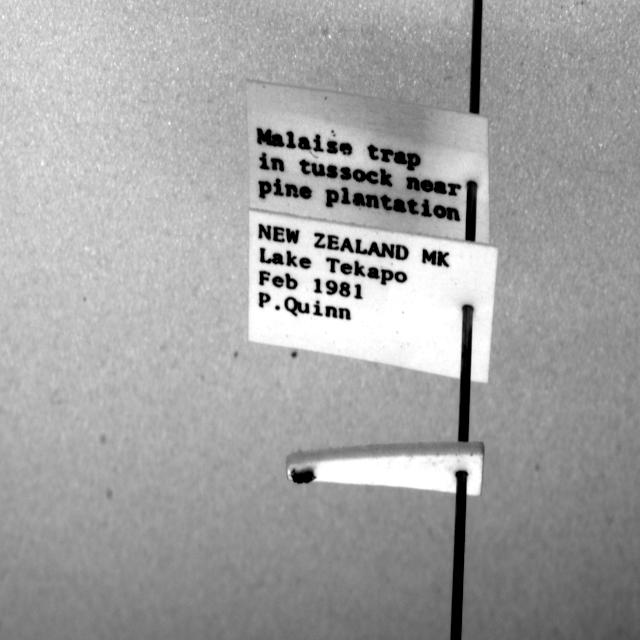typed_label: (249, 210, 498, 382), (248, 81, 490, 244)
